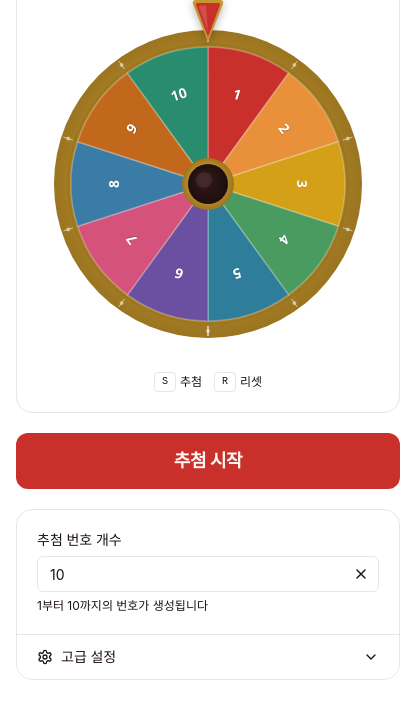
draw state boundaries › keeps invalid number draft visible and blocks draw:
(page scrolled)
Clear the field labelled "추첨 번호 개수" at point(208, 574), box left=37, top=556, right=379, bottom=592
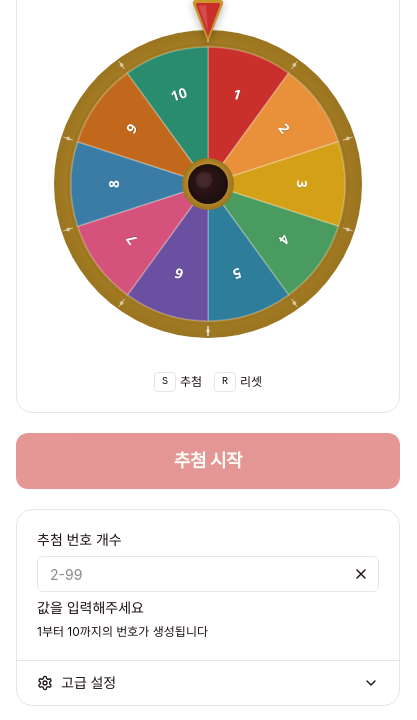
Check: the message "값을 입력해주세요" is shown, box left=37, top=599, right=144, bottom=616
Check: the button "추첨 시작" is disabled, box left=16, top=433, right=400, bottom=489
